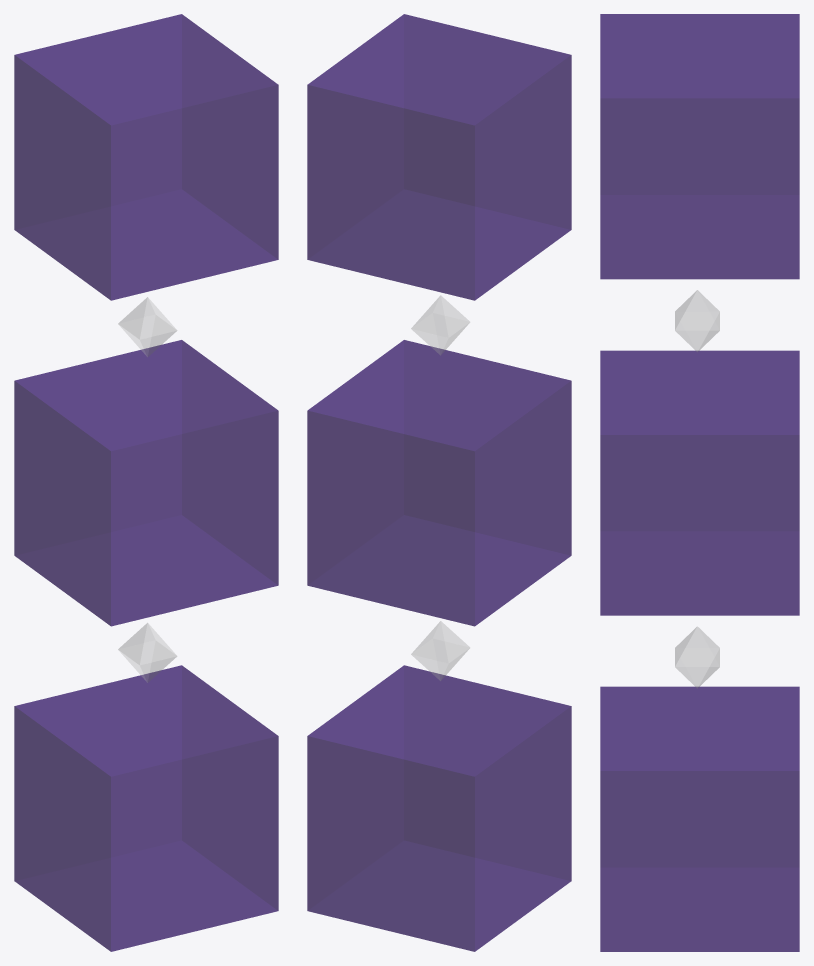
File: StackB.fbx
3 views of the same model, side by side, from view 1: azimuth 30°, elevation 25°; view 2: azimuth 150°, elevation 25°; view 3: azimuth 270°, elevation 25° (orthographic). The views are drawn at different scales.
Visible parts, largest first — view 1: Cube_1, Cube_1_3, Cube_1_2, pyramid, pyramid_2; view 2: Cube_1, Cube_1_2, Cube_1_3, pyramid_2, pyramid; view 3: Cube_1, Cube_1_2, Cube_1_3, pyramid, pyramid_2.
Boxes of the visible parts, x1=… form: Cube_1: x1=14, y1=14, x2=278, y2=300; Cube_1_3: x1=14, y1=665, x2=278, y2=951; Cube_1_2: x1=14, y1=340, x2=278, y2=626; pyramid: x1=118, y1=297, x2=177, y2=356; pyramid_2: x1=118, y1=623, x2=176, y2=682; Cube_1: x1=307, y1=14, x2=571, y2=300; Cube_1_2: x1=307, y1=340, x2=571, y2=626; Cube_1_3: x1=307, y1=665, x2=571, y2=951; pyramid_2: x1=411, y1=621, x2=469, y2=680; pyramid: x1=411, y1=295, x2=469, y2=355; Cube_1: x1=600, y1=14, x2=799, y2=279; Cube_1_2: x1=600, y1=350, x2=799, y2=615; Cube_1_3: x1=600, y1=686, x2=799, y2=951; pyramid: x1=675, y1=290, x2=719, y2=351; pyramid_2: x1=675, y1=626, x2=719, y2=688.
Bounding box in the file's own units: 538 × 2539 × 538.
